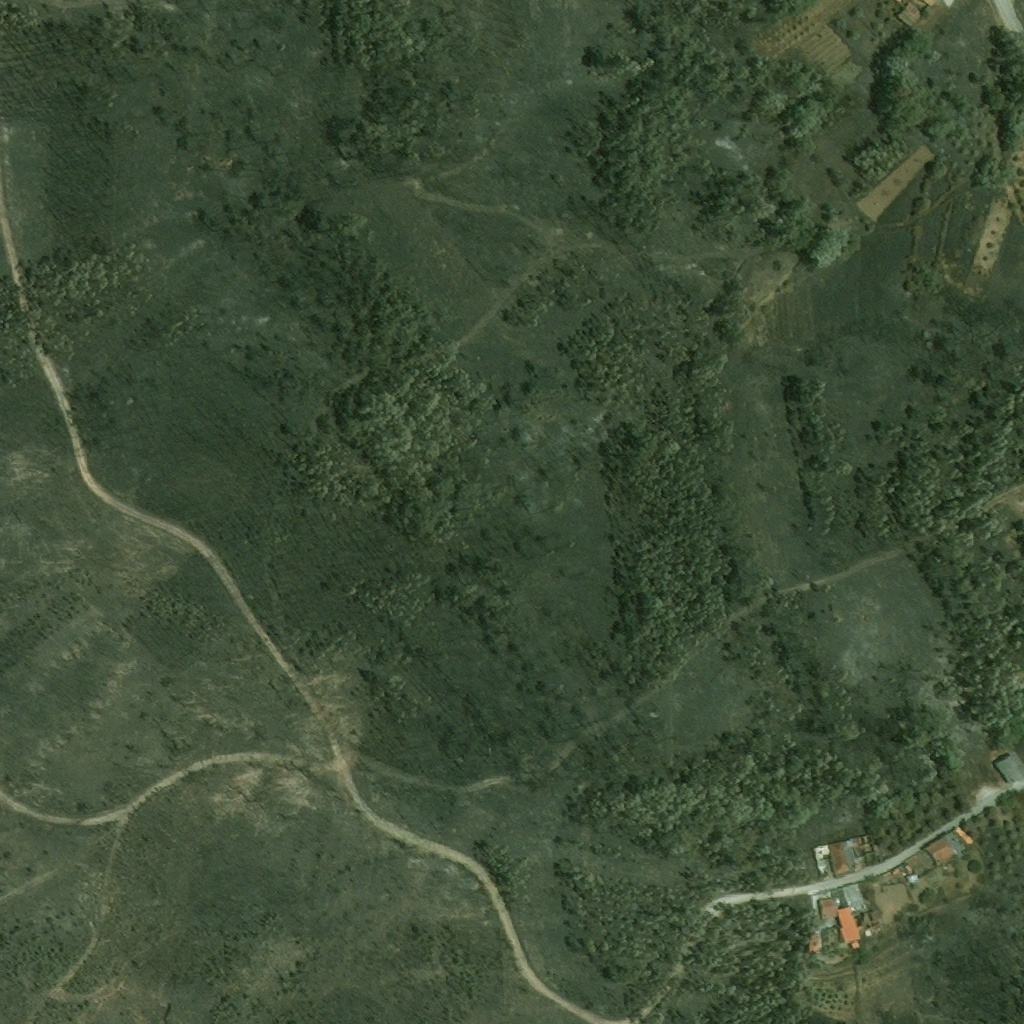0 no-damage: (811, 834, 875, 877), (994, 752, 1023, 785), (923, 837, 956, 865), (838, 907, 860, 944), (853, 908, 883, 935), (903, 851, 931, 871), (943, 833, 965, 858), (818, 897, 836, 918), (905, 875, 918, 885), (849, 941, 860, 951)
4 un-classified: (896, 0, 926, 26), (943, 0, 954, 6)
